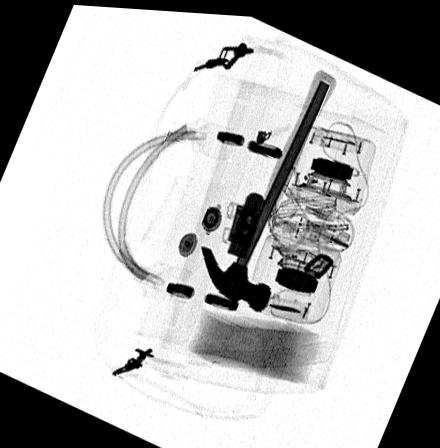Hammer: (199, 64, 336, 309)
